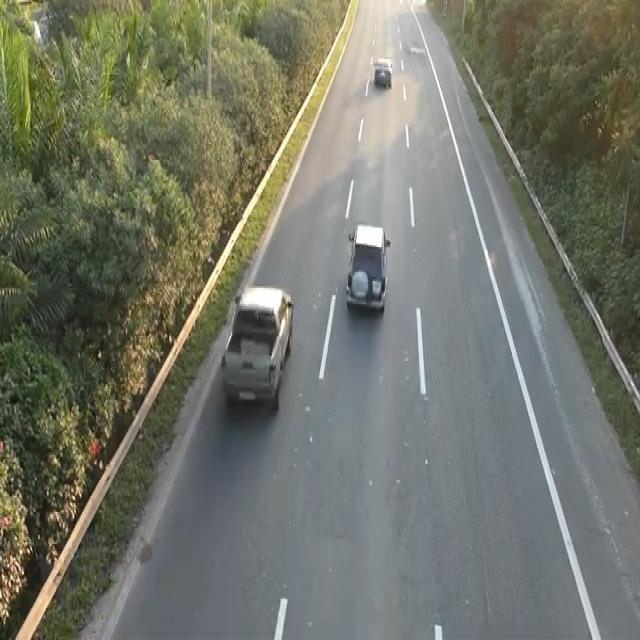car: (219, 279, 295, 411), (344, 220, 391, 314)
